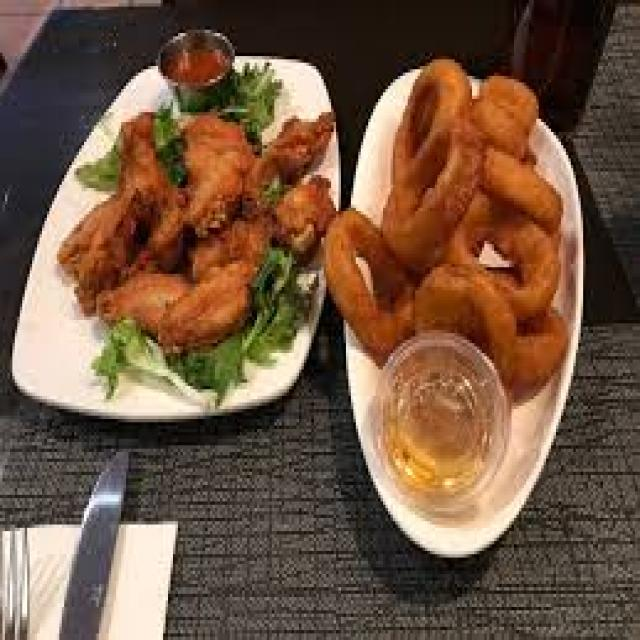Chicken Wings: (52, 106, 326, 376)
Onion Rings: (326, 52, 586, 392)
